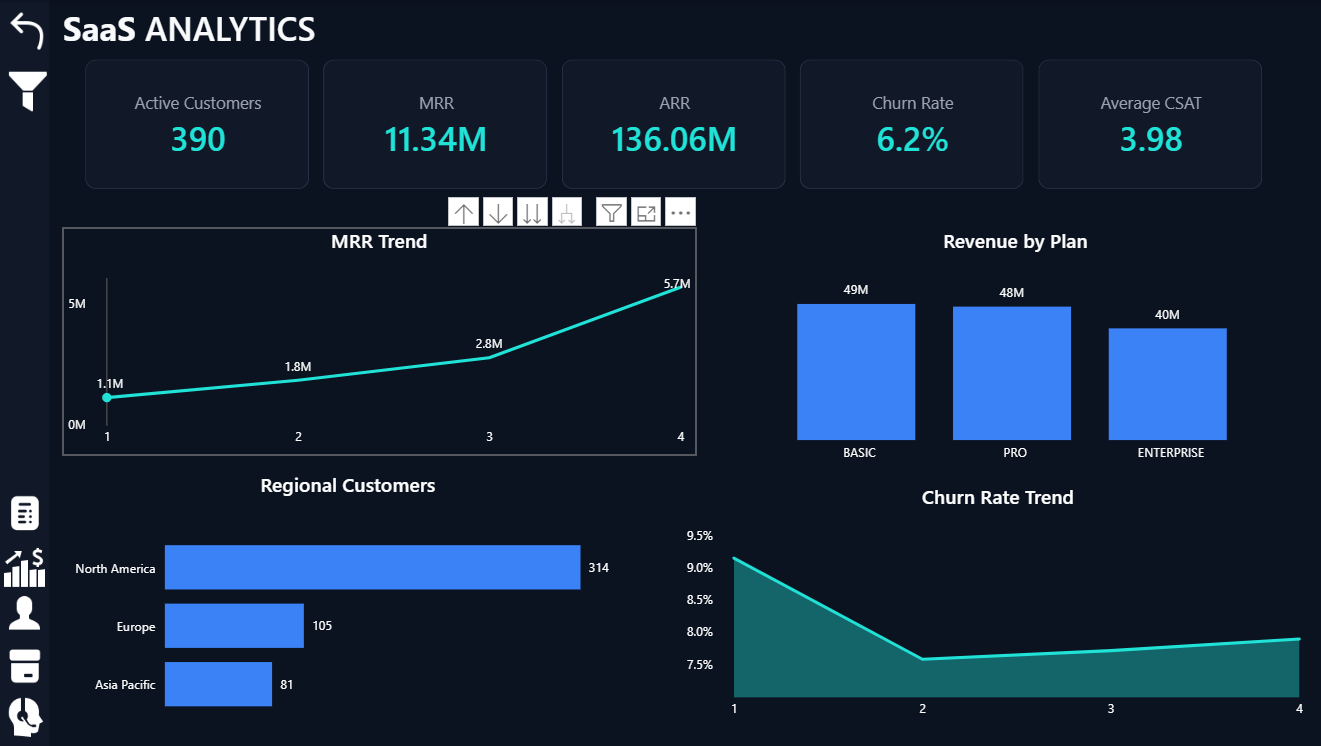

Layout of this report page (visuals, bound fields, positions):
{"tool":"powerbi","page":{"name":"Executive Overview","canvas":[1280,720],"ordinal":0},"visuals":[{"type":"cardVisual","fields":{"Data":["gold dim_accounts.Active Customers","gold fact_subscriptions.MRR","gold fact_subscriptions.ARR","gold fact_subscriptions.Churn Rate","gold fact_support_tickets.Average CSAT"]},"box":[47.6,41.8,1207.6,155.8],"z":0},{"type":"image","box":[0,520.8,47.6,51.9],"z":0,"group":"g1"},{"type":"textbox","box":[47.6,0,346.3,59.2],"z":1000},{"type":"image","box":[0,572.8,47.6,37.5],"z":1000,"group":"g1"},{"type":"shape","box":[0,0,47.6,719.9],"z":2000},{"type":"image","box":[0,618.9,47.6,47.6],"z":2000,"group":"g1"},{"type":"lineChart","title":"MRR Trend","fields":{"Y":["gold fact_subscriptions.MRR"],"Category":["gold dim_date.calendar_year Hierarchy.calendar_year","gold dim_date.calendar_year Hierarchy.calendar_quarter","gold dim_date.calendar_year Hierarchy.month_name","gold dim_date.calendar_year Hierarchy.calendar_date"]},"box":[60.6,219.3,611.7,220],"z":3000},{"type":"image","box":[0,670,47.6,42],"z":3000,"group":"g1"},{"type":"columnChart","title":"Revenue by Plan","fields":{"Y":["gold fact_subscriptions.ARR"],"Category":["gold dim_accounts.plan_tier"]},"box":[704.1,219.3,551.1,235.2],"z":4000},{"type":"image","box":[0,468.9,47.6,51.9],"z":4000,"group":"g1"},{"type":"barChart","title":"Regional Customers","fields":{"Y":["gold dim_accounts.Total Customers"],"Category":["gold dim_accounts.region"]},"box":[60.6,454.5,551.1,256.8],"z":5000},{"type":"lineChart","title":"Churn Rate Trend","fields":{"Y":["gold fact_subscriptions.Churn Rate"],"Category":["gold dim_date.calendar_year Hierarchy.calendar_year","gold dim_date.calendar_year Hierarchy.calendar_quarter","gold dim_date.calendar_year Hierarchy.month_name","gold dim_date.calendar_year Hierarchy.calendar_date"]},"box":[657.9,467.5,611.7,235.2],"z":6000},{"type":"image","title":"Filter Button","box":[5.4,59.8,41.7,56.2],"z":7000},{"type":"image","title":"Filter Button","box":[5.8,2.9,41.8,56.3],"z":9000},{"type":"group","id":"g1","title":"Page Navigation Icon","box":[0,468.9,47.6,243.1],"z":11500}]}

Visuals, with their boxes on the page's 1280x720 design canvas (x1, y1, x2, y2). These are canvas units, not pixel positions in the 1321x746 screenshot, which may show the page scaled, cropped or inside an application window:
cardVisual - gold dim_accounts.Active Customers x gold fact_subscriptions.MRR: select_region(48, 42, 1255, 198)
image: select_region(0, 521, 48, 573)
textbox: select_region(48, 0, 394, 59)
image: select_region(0, 573, 48, 610)
shape: select_region(0, 0, 48, 720)
image: select_region(0, 619, 48, 666)
"MRR Trend" lineChart: select_region(61, 219, 672, 439)
image: select_region(0, 670, 48, 712)
"Revenue by Plan" columnChart: select_region(704, 219, 1255, 454)
image: select_region(0, 469, 48, 521)
"Regional Customers" barChart: select_region(61, 454, 612, 711)
"Churn Rate Trend" lineChart: select_region(658, 468, 1270, 703)
"Filter Button" image: select_region(5, 60, 47, 116)
"Filter Button" image: select_region(6, 3, 48, 59)
"Page Navigation Icon" group: select_region(0, 469, 48, 712)
